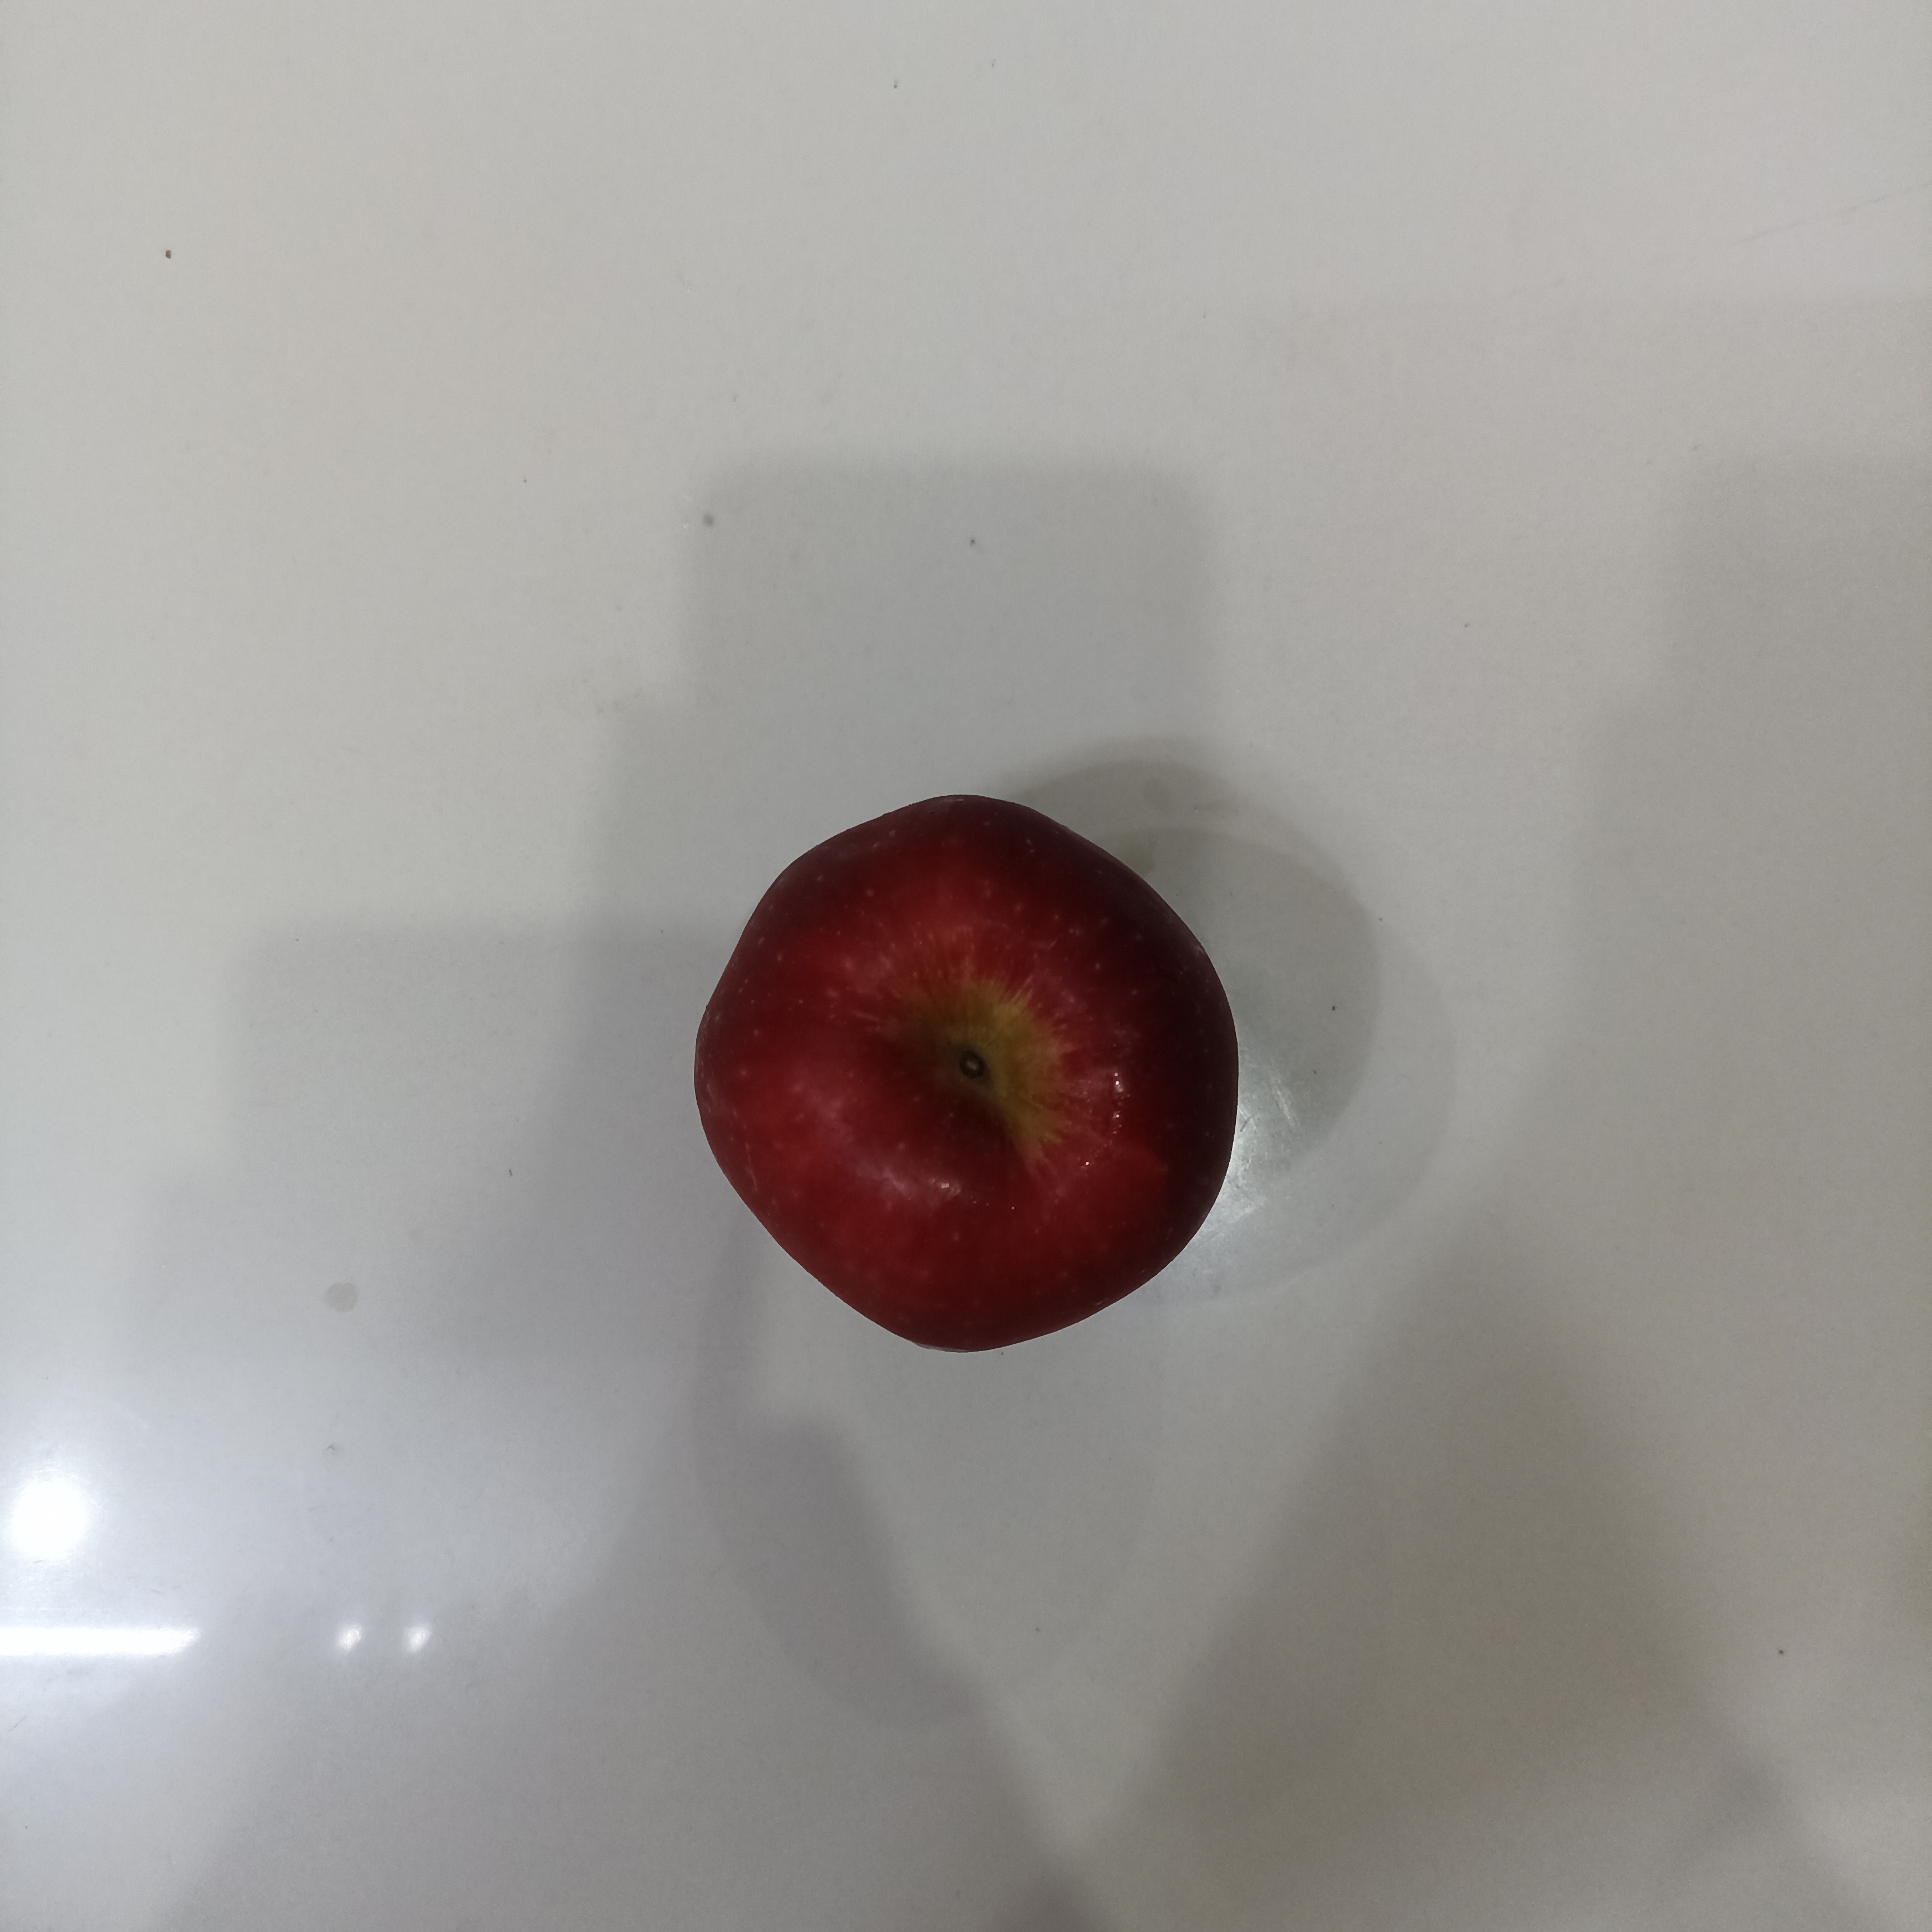Tao do: (695, 796, 1242, 1355)
